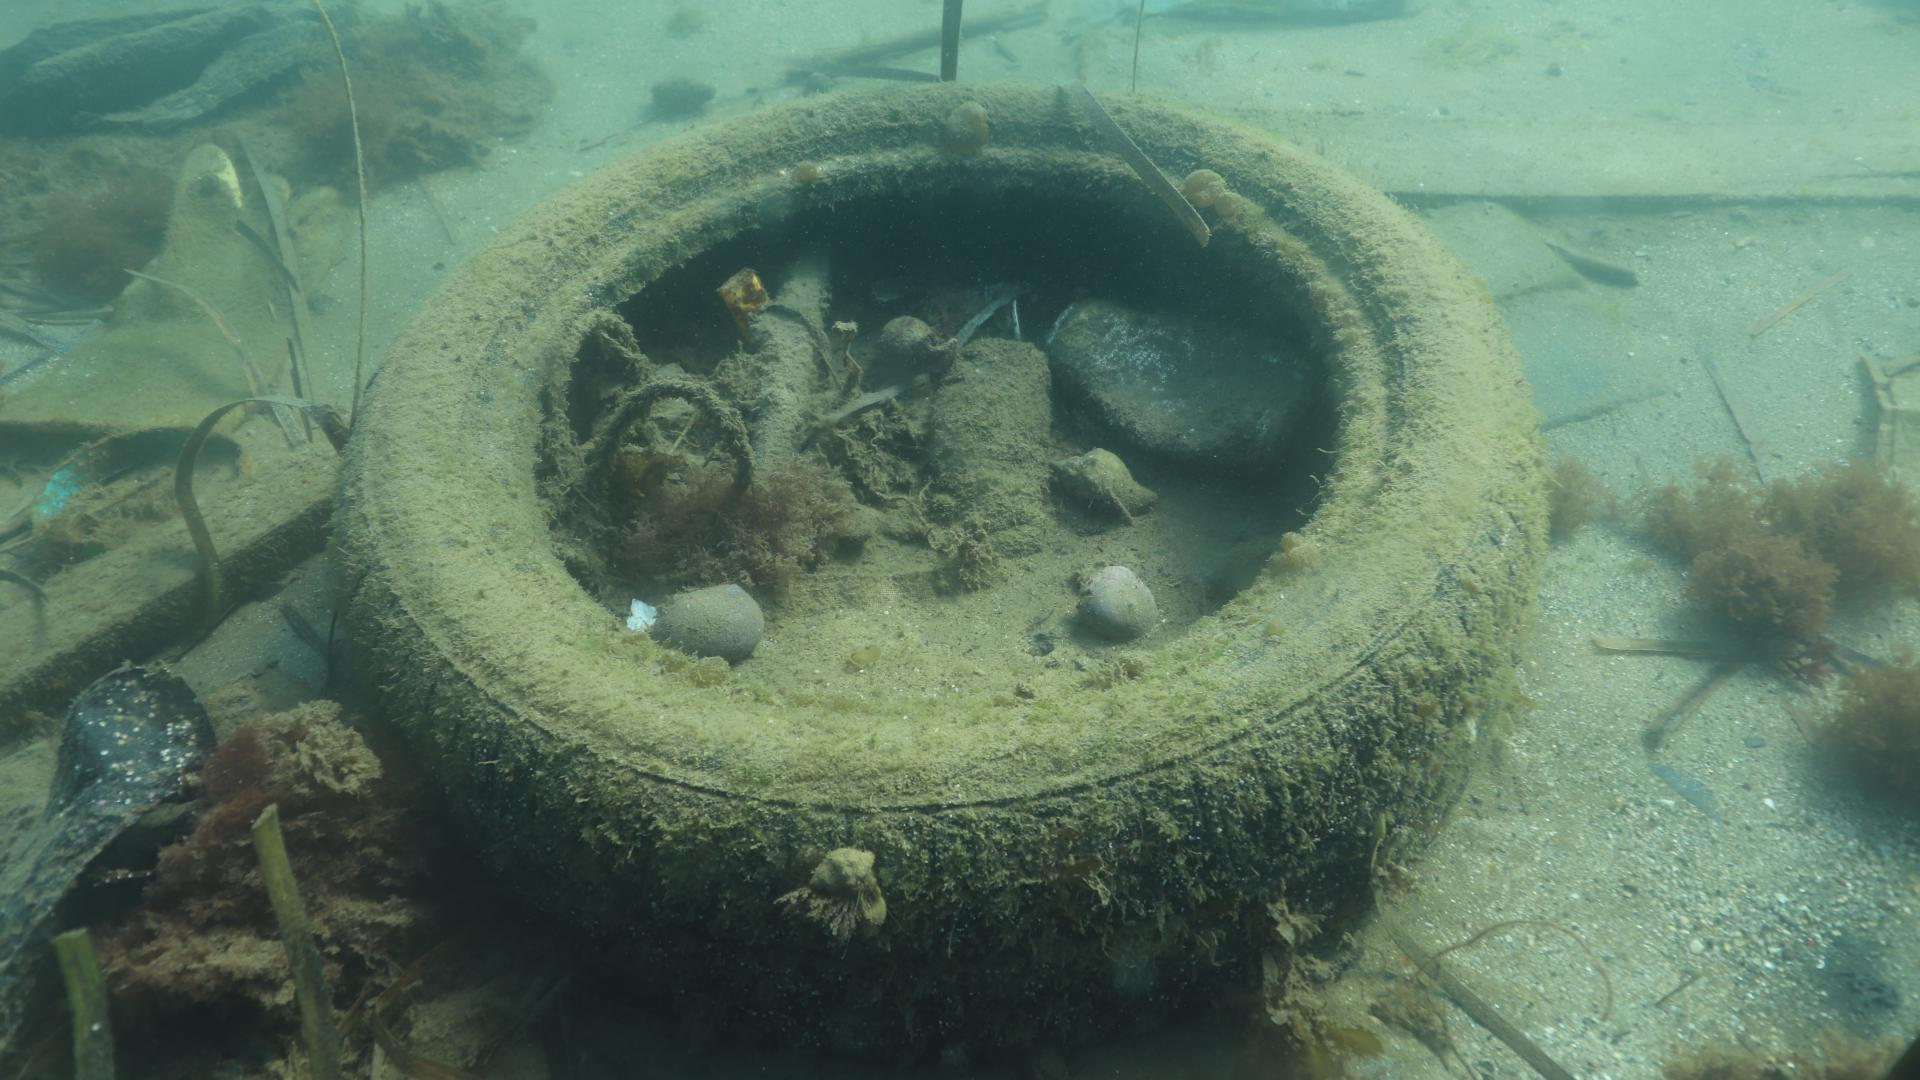tire: (330, 80, 1548, 1055)
wood: (0, 427, 340, 754), (1230, 95, 1920, 218)
